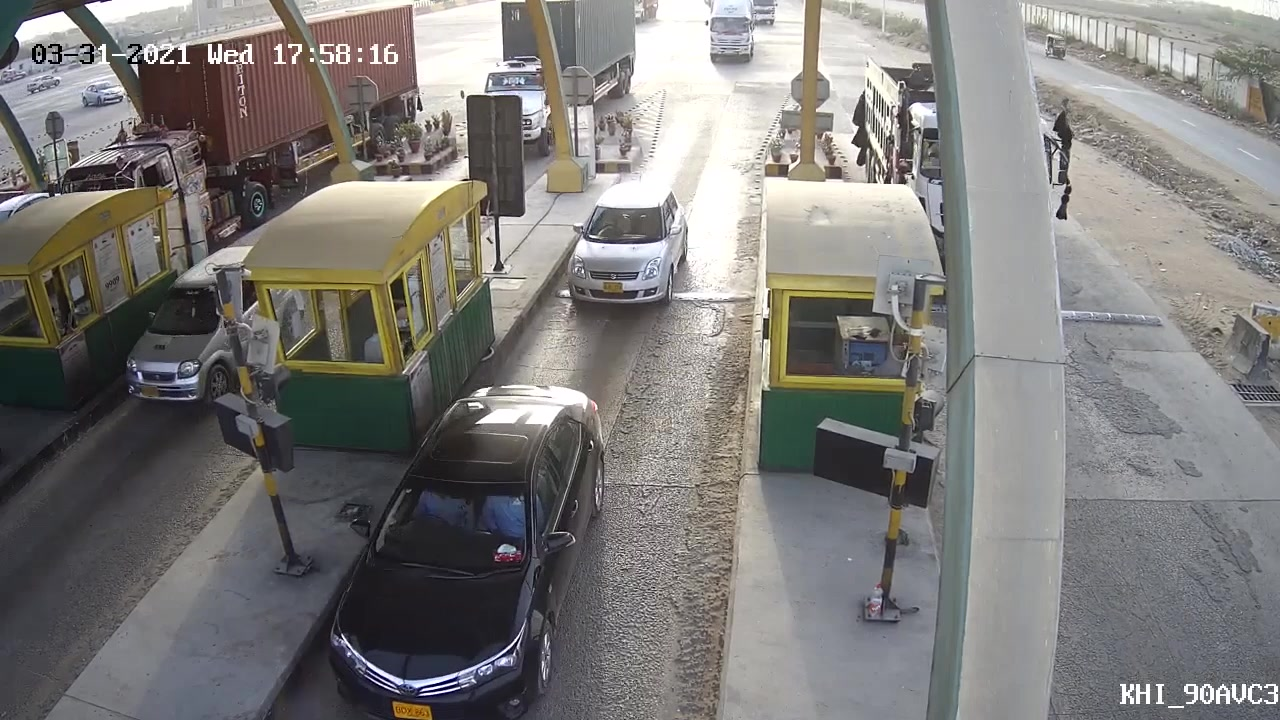F1: (553, 183, 694, 313)
